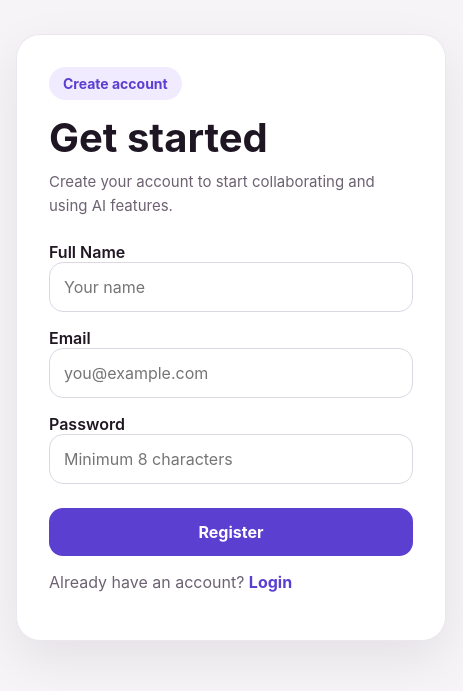
Scenario: shows an inline error when registration fails
In the field named "Full Name": (231, 286) [49, 262, 413, 312], type "Alice Writer"
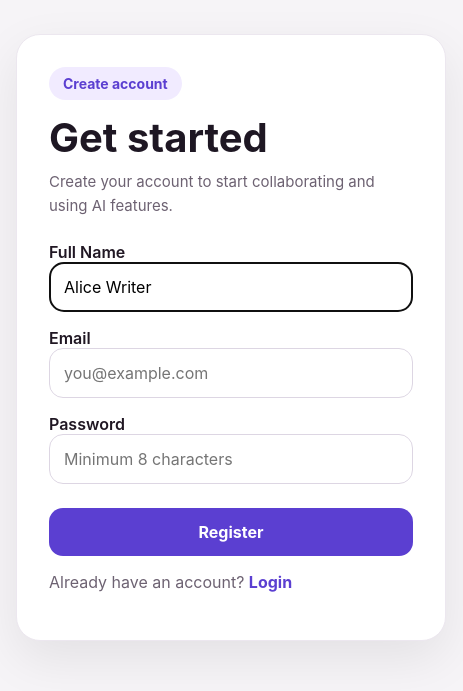
In the field named "Email": (231, 372) [49, 348, 413, 398], type "alice@example.com"
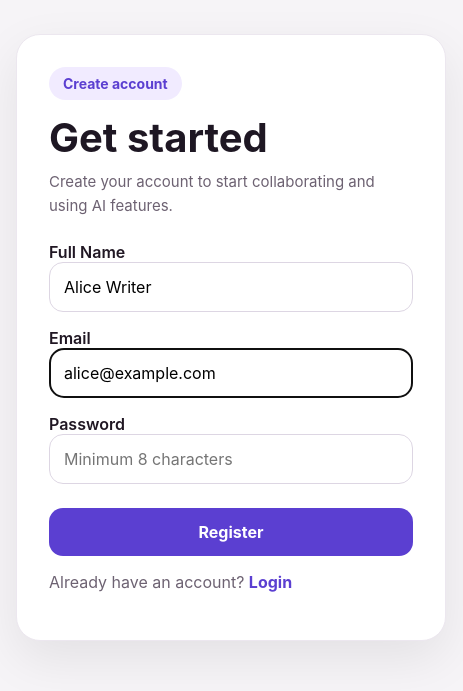
In the password field named "Password": (231, 458) [49, 434, 413, 484], type "secret-pass-123"
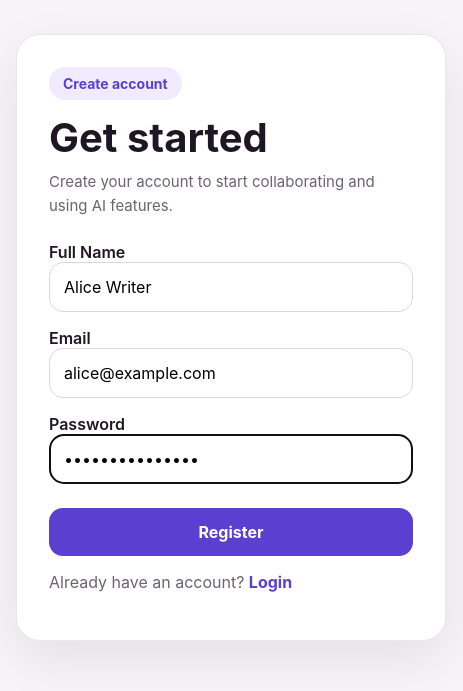
Click the button "Register": (231, 532) [49, 508, 413, 556]
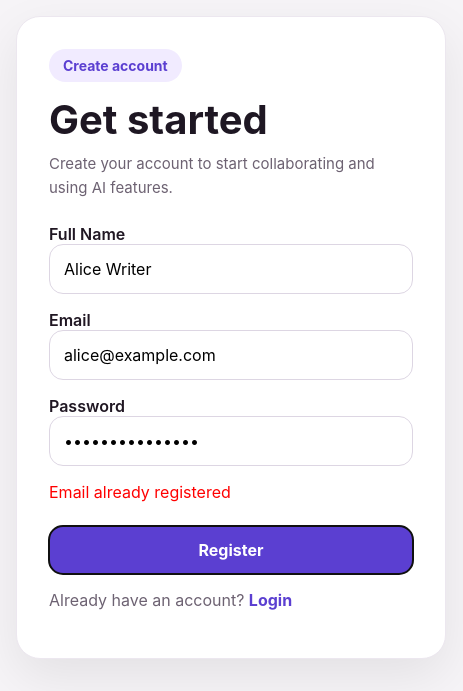
Result: the text "Email already registered" is shown at [49, 482, 231, 502]
